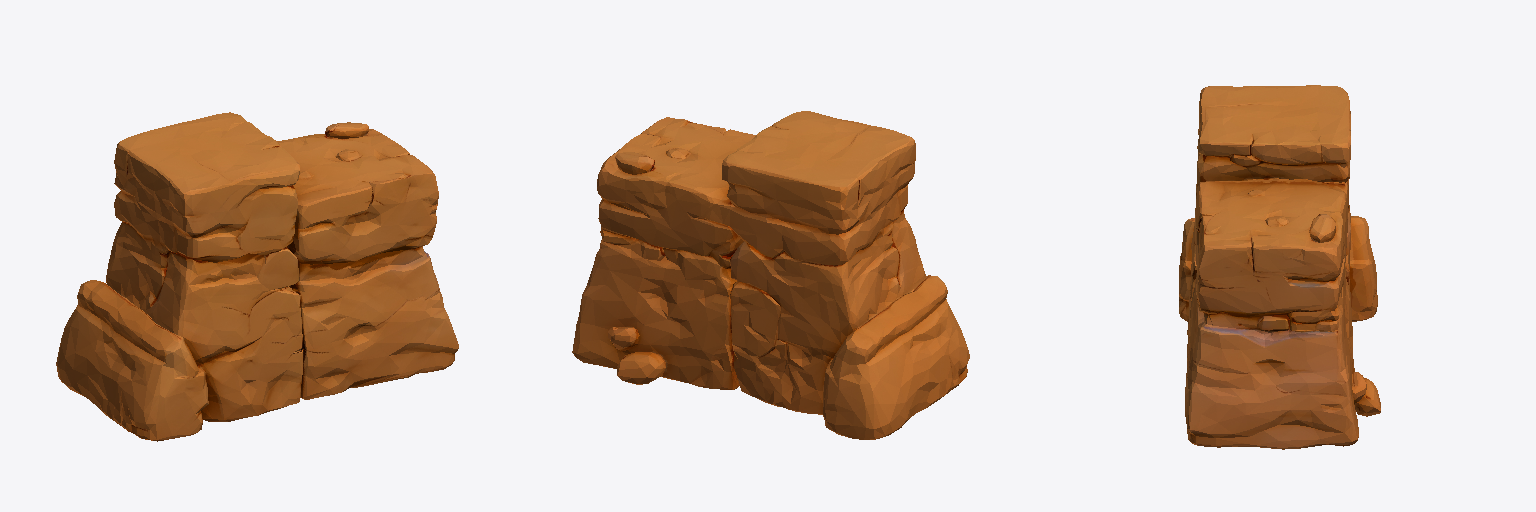
3 renders of one model, left to right at view 1: azimuth 30°, elevation 25°; view 2: azimuth 150°, elevation 25°; view 3: azimuth 270°, elevation 25°, orthographic.
Parts seen in each view (by area): view 1: 2_1234_30_5.0_384_8000; view 2: 2_1234_30_5.0_384_8000; view 3: 2_1234_30_5.0_384_8000.
Part boxes in pixels (x1,y1,x2,y2): 2_1234_30_5.0_384_8000: (56,112,458,441); 2_1234_30_5.0_384_8000: (572,111,969,439); 2_1234_30_5.0_384_8000: (1179,85,1380,449).
Bounding box in the file's own units: 2 × 1.4 × 1.08.
Materials: 1 (1 with a texture image).